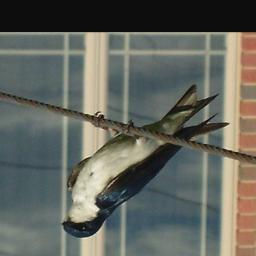Swallow: (60, 83, 231, 239)
